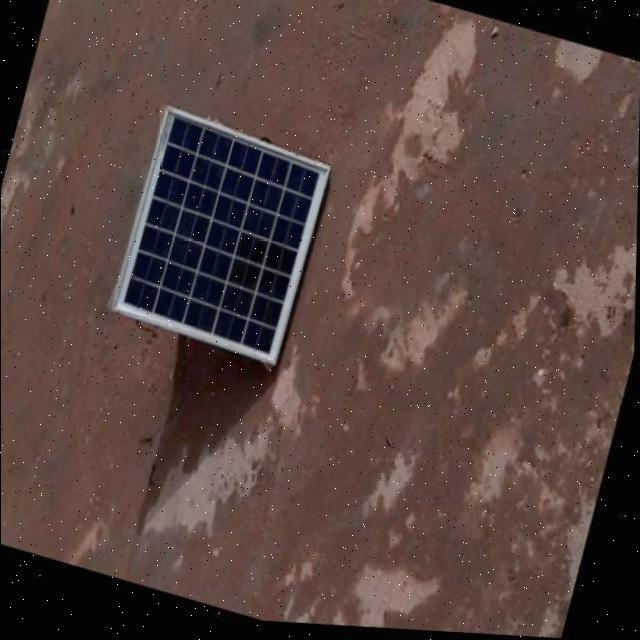Normal Solar Panel: (113, 107, 334, 376)
